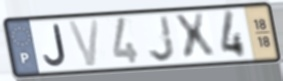4: (111, 15, 141, 67), (218, 9, 247, 62)
J: (146, 14, 177, 64), (41, 23, 68, 68)
V: (66, 18, 102, 69)
X: (171, 11, 219, 63)
